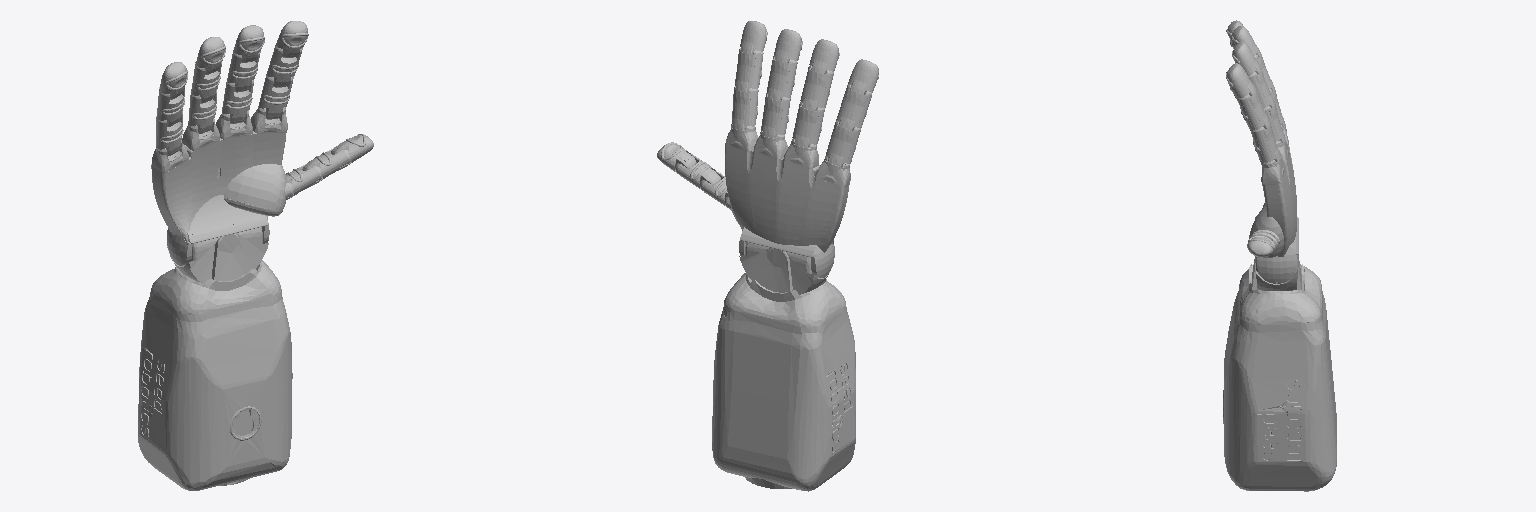
--- Facts derived from the render (not from the file) ---
3 views of the same robot in one strip: view 1: azimuth 30°, elevation 25°; view 2: azimuth 150°, elevation 25°; view 3: azimuth 270°, elevation 25° (orthographic).
Model RH8D with 21 links and 20 joints (19 revolute, 1 fixed), rooted at base_link, posed every joint at zero.
Links seen in each view (by area): view 1: forearm, palm, palm axis, Iproximal, Mproximal, Itip, Imiddle, Mtip, Rproximal, Mmiddle, Rtip, Pproximal (+6 smaller); view 2: forearm, palm, palm axis, Pmiddle, Rmiddle, Pproximal, Rproximal, Mmiddle, Mproximal, Imiddle, Iproximal, Ptip (+5 smaller); view 3: forearm, palm, Imiddle, Iproximal, Itip, Mtip.
Boxes of the visible links, x1,y1,x2,y2 form: forearm: [138, 233, 292, 490]; palm: [151, 106, 287, 265]; palm axis: [167, 227, 268, 283]; Iproximal: [259, 74, 293, 119]; Mproximal: [222, 80, 253, 123]; Itip: [276, 21, 308, 57]; Imiddle: [267, 45, 302, 87]; Mtip: [234, 25, 264, 62]; Rproximal: [188, 90, 216, 133]; Mmiddle: [227, 50, 260, 92]; Rtip: [196, 37, 225, 74]; Pproximal: [156, 111, 183, 155]; forearm: [712, 248, 855, 491]; palm: [725, 124, 850, 277]; palm axis: [739, 242, 833, 294]; Pmiddle: [836, 84, 871, 130]; Rmiddle: [800, 65, 833, 110]; Pproximal: [826, 120, 860, 166]; Rproximal: [792, 102, 824, 147]; Mmiddle: [767, 55, 797, 100]; Mproximal: [761, 93, 790, 137]; Imiddle: [735, 48, 763, 91]; Iproximal: [732, 85, 758, 129]; Ptip: [848, 59, 878, 94]; forearm: [1223, 255, 1336, 491]; palm: [1249, 125, 1298, 283]; Imiddle: [1237, 90, 1269, 129]; Iproximal: [1250, 123, 1280, 162]; Itip: [1226, 63, 1255, 98]; Mtip: [1232, 42, 1260, 75].
Bounding box of the posed robot: 0.1627 × 0.0757 × 0.3196 m (x, y, z).
20 mesh visuals loaded from 8 distinct referenced files (8 binary STL).

URDF robot description (RH8D):
<robot name="RH8D">
  <link name="base_link" />
  <link name="base">
    <inertial>
      <origin xyz="-2.32485e-05 5.52515e-05 0.00231761" rpy="0 0 0"/>
      <mass value="0.00544451"/>
      <inertia ixx="5.66637e-07" ixy="1.64003e-10" ixz="-2.30068e-10" iyy="5.71758e-07" iyz="5.4677e-10" izz="1.12068e-06"/>
    </inertial>
    <visual>
      <origin xyz="0 0 0" rpy="0 0 0"/>
      <geometry>
        <mesh filename="package://finger_description/meshes/base.stl" scale="0.001 0.001 0.001"/>
      </geometry>
      <material name="base_color">
        <color rgba="0.74902 0.74902 0.74902 1.0"/>
      </material>
    </visual>
    <collision>
      <origin xyz="0 0 0" rpy="0 0 0"/>
      <geometry>
        <mesh filename="package://finger_description/meshes/base.stl" scale="0.001 0.001 0.001"/>
      </geometry>
    </collision>
  </link>
  <link name="forearm">
    <inertial>
      <origin xyz="2.30433000001e-07 -0.0655374 -0.00282708" rpy="0 0 0"/>
      <mass value="0.737868"/>
      <inertia ixx="0.0013021" ixy="1.01472e-07" ixz="5.87405e-09" iyy="0.000679239" iyz="-1.22301e-05" izz="0.00145511"/>
    </inertial>
    <visual>
      <origin xyz="0.0241628 -0.122588 -0.0023045" rpy="0 0 0"/>
      <geometry>
        <mesh filename="package://finger_description/meshes/forearm.stl" scale="0.001 0.001 0.001"/>
      </geometry>
      <material name="forearm_color">
        <color rgba="0.74902 0.74902 0.74902 1.0"/>
      </material>
    </visual>
    <collision>
      <origin xyz="0.0241628 -0.122588 -0.0023045" rpy="0 0 0"/>
      <geometry>
        <mesh filename="package://finger_description/meshes/forearm.stl" scale="0.001 0.001 0.001"/>
      </geometry>
    </collision>
  </link>
  <joint name="forearm__base" type="revolute">
    <origin xyz="0 0 0.0005" rpy="-1.57079632679 0 0"/>
    <axis xyz="0.0 -1.0 2.22044604925e-16"/>
    <parent link="base"/>
    <child link="forearm"/>
    <limit effort="0.5" lower="-1.57079632679" upper="1.57079632679" velocity="1.0"/>
    <dynamics damping="0.1"/>
  </joint>
  <link name="palm axis">
    <inertial>
      <origin xyz="0 0.009025 -0.01025" rpy="0 0 0"/>
      <mass value="0.0484983"/>
      <inertia ixx="9.46434e-06" ixy="0.0" ixz="0.0" iyy="1.22209e-05" iyz="-2.49433e-17" izz="1.71183e-05"/>
    </inertial>
    <visual>
      <origin xyz="0 0 -0.01025" rpy="0 0 0"/>
      <geometry>
        <mesh filename="package://finger_description/meshes/palm axis.stl" scale="0.001 0.001 0.001"/>
      </geometry>
      <material name="palm axis_color">
        <color rgba="0.74902 0.74902 0.74902 1.0"/>
      </material>
    </visual>
    <collision>
      <origin xyz="0 0 -0.01025" rpy="0 0 0"/>
      <geometry>
        <mesh filename="package://finger_description/meshes/palm axis.stl" scale="0.001 0.001 0.001"/>
      </geometry>
    </collision>
  </link>
  <joint name="palm axis__forearm" type="revolute">
    <origin xyz="0 -0.165 -0.01525" rpy="-3.14159265359 0 -3.14159265359"/>
    <axis xyz="-2.22044604925e-16 0.0 -1.0"/>
    <parent link="forearm"/>
    <child link="palm axis"/>
    <limit effort="0.5" lower="-0.785398163397" upper="0.785398163397" velocity="1.0"/>
    <dynamics damping="0.1"/>
  </joint>
  <link name="palm">
    <inertial>
      <origin xyz="0.02226623 -0.04266 -0.00107953" rpy="0 0 0"/>
      <mass value="0.0886716"/>
      <inertia ixx="3.49499e-05" ixy="1.90978e-06" ixz="3.02331e-06" iyy="5.90827e-05" iyz="-2.26784e-07" izz="8.80157e-05"/>
    </inertial>
    <visual>
      <origin xyz="16.7603 17.427 0.713666" rpy="0 0 0"/>
      <geometry>
        <mesh filename="package://finger_description/meshes/palm.stl" scale="0.001 0.001 0.001"/>
      </geometry>
      <material name="palm_color">
        <color rgba="0.74902 0.74902 0.74902 1.0"/>
      </material>
    </visual>
    <collision>
      <origin xyz="16.7603 17.427 0.713666" rpy="0 0 0"/>
      <geometry>
        <mesh filename="package://finger_description/meshes/palm.stl" scale="0.001 0.001 0.001"/>
      </geometry>
    </collision>
  </link>
  <joint name="palm__palm axis" type="revolute">
    <origin xyz="-0.0265 0 -0.01025" rpy="0 0 0"/>
    <axis xyz="-1.0 2.22044604925e-16 0.0"/>
    <parent link="palm axis"/>
    <child link="palm"/>
    <limit effort="0.5" lower="-0.785398163397" upper="0.785398163397" velocity="1.0"/>
    <dynamics damping="0.1"/>
  </joint>
  <link name="Rproximal">
    <inertial>
      <origin xyz="-0.00506265498327 0.000178411167835 -0.0113952992502" rpy="0 0 0"/>
      <mass value="0.0046468"/>
      <inertia ixx="3.60659e-07" ixy="2.95375e-10" ixz="3.96643e-12" iyy="4.02251e-07" iyz="7.4602e-09" izz="1.59669e-07"/>
    </inertial>
    <visual>
      <origin xyz="0.00532660458173 -0.00134315858259 -0.0128298354943" rpy="0 0 0"/>
      <geometry>
        <mesh filename="package://finger_description/meshes/seg_L.stl" scale="0.001 0.001 0.001"/>
      </geometry>
      <material name="Rproximal_color">
        <color rgba="0.74902 0.74902 0.74902 1.0"/>
      </material>
    </visual>
    <collision>
      <origin xyz="0.00532660458173 -0.00134315858259 -0.0128298354943" rpy="0 0 0"/>
      <geometry>
        <mesh filename="package://finger_description/meshes/seg_L.stl" scale="0.001 0.001 0.001"/>
      </geometry>
    </collision>
  </link>
  <joint name="Rproximal__palm" type="revolute">
    <origin xyz="0.044463 -0.081365 0.00148931" rpy="-1.83998062112 -0.070428847363 0.101332262919"/>
    <axis xyz="-1.00000007251 -8.46220030541e-08 1.44225053858e-07"/>
    <parent link="palm"/>
    <child link="Rproximal"/>
    <limit effort="0.5" lower="0.0" upper="1.4835298642" velocity="1.0"/>
    <dynamics damping="0.1"/>
  </joint>
  <link name="Rmiddle">
    <inertial>
      <origin xyz="-0.0050627375168 0.000178703837342 -0.0113961050151" rpy="0 0 0"/>
      <mass value="0.0046468"/>
      <inertia ixx="3.60659e-07" ixy="2.95375e-10" ixz="3.96643e-12" iyy="4.02251e-07" iyz="7.4602e-09" izz="1.59669e-07"/>
    </inertial>
    <visual>
      <origin xyz="0.00532662722179 -0.00134303584663 -0.0128300831679" rpy="0 0 0"/>
      <geometry>
        <mesh filename="package://finger_description/meshes/seg_L.stl" scale="0.001 0.001 0.001"/>
      </geometry>
      <material name="Rmiddle_color">
        <color rgba="0.74902 0.74902 0.74902 1.0"/>
      </material>
    </visual>
    <collision>
      <origin xyz="0.00532662722179 -0.00134303584663 -0.0128300831679" rpy="0 0 0"/>
      <geometry>
        <mesh filename="package://finger_description/meshes/seg_L.stl" scale="0.001 0.001 0.001"/>
      </geometry>
    </collision>
  </link>
  <joint name="Rmiddle__Rproximal" type="revolute">
    <origin xyz="0 0 -0.0258747809103" rpy="-0.0872670609142 0 2.76912342671e-07"/>
    <axis xyz="-1.00000007251 1.72767385245e-07 2.31542720386e-07"/>
    <parent link="Rproximal"/>
    <child link="Rmiddle"/>
    <limit effort="0.5" lower="0.0" upper="1.4835298642" velocity="1.0"/>
    <dynamics damping="0.1"/>
  </joint>
  <link name="Rtip">
    <inertial>
      <origin xyz="-0.00506262889447 0.000158864121429 -0.00949029810479" rpy="0 0 0"/>
      <mass value="0.00398141"/>
      <inertia ixx="2.27393e-07" ixy="-4.487e-12" ixz="-6.19169e-12" iyy="2.50732e-07" iyz="3.7689e-09" izz="1.09262e-07"/>
    </inertial>
    <visual>
      <origin xyz="-0.00506246565687 -4.09118144695e-07 7.45384128198e-07" rpy="0 0 0"/>
      <geometry>
        <mesh filename="package://finger_description/meshes/tip.stl" scale="0.001 0.001 0.001"/>
      </geometry>
      <material name="Rtip_color">
        <color rgba="0.74902 0.74902 0.74902 1.0"/>
      </material>
    </visual>
    <collision>
      <origin xyz="-0.00506246565687 -4.09118144695e-07 7.45384128198e-07" rpy="0 0 0"/>
      <geometry>
        <mesh filename="package://finger_description/meshes/tip.stl" scale="0.001 0.001 0.001"/>
      </geometry>
    </collision>
  </link>
  <joint name="Rtip__Rmiddle" type="revolute">
    <origin xyz="0 2.25940697457e-07 -0.0258755491275" rpy="-0.0872662816218 1.12264697248e-07 -3.5745305372e-07"/>
    <axis xyz="-1.00000007251 -1.94378654964e-07 1.02727742424e-07"/>
    <parent link="Rmiddle"/>
    <child link="Rtip"/>
    <limit effort="0.5" lower="0.0" upper="1.4835298642" velocity="1.0"/>
    <dynamics damping="0.1"/>
  </joint>
  <link name="Mproximal">
    <inertial>
      <origin xyz="-0.00506268032219 0.000178369758776 -0.0113951959251" rpy="0 0 0"/>
      <mass value="0.0046468"/>
      <inertia ixx="3.60659e-07" ixy="2.95375e-10" ixz="3.96643e-12" iyy="4.02251e-07" iyz="7.4602e-09" izz="1.59669e-07"/>
    </inertial>
    <visual>
      <origin xyz="0.00532660055243 -0.00134318776557 -0.0128295627043" rpy="0 0 0"/>
      <geometry>
        <mesh filename="package://finger_description/meshes/seg_L.stl" scale="0.001 0.001 0.001"/>
      </geometry>
      <material name="Mproximal_color">
        <color rgba="0.74902 0.74902 0.74902 1.0"/>
      </material>
    </visual>
    <collision>
      <origin xyz="0.00532660055243 -0.00134318776557 -0.0128295627043" rpy="0 0 0"/>
      <geometry>
        <mesh filename="package://finger_description/meshes/seg_L.stl" scale="0.001 0.001 0.001"/>
      </geometry>
    </collision>
  </link>
  <joint name="Mproximal__palm" type="revolute">
    <origin xyz="0.01971414 -0.082973 0.00076618" rpy="-1.83324870939 0.0859369188285 -0.0151906736407"/>
    <axis xyz="-1.00000030441 -5.71235363176e-07 2.22119205119e-07"/>
    <parent link="palm"/>
    <child link="Mproximal"/>
    <limit effort="0.5" lower="0.0" upper="1.4835298642" velocity="1.0"/>
    <dynamics damping="0.1"/>
  </joint>
  <link name="Mmiddle">
    <inertial>
      <origin xyz="-0.00506269201108 0.000178473714736 -0.0113956264739" rpy="0 0 0"/>
      <mass value="0.0046468"/>
      <inertia ixx="3.60659e-07" ixy="2.95375e-10" ixz="3.96643e-12" iyy="4.02251e-07" iyz="7.4602e-09" izz="1.59669e-07"/>
    </inertial>
    <visual>
      <origin xyz="0.00532662940519 -0.001342939287 -0.012830098266" rpy="0 0 0"/>
      <geometry>
        <mesh filename="package://finger_description/meshes/seg_L.stl" scale="0.001 0.001 0.001"/>
      </geometry>
      <material name="Mmiddle_color">
        <color rgba="0.74902 0.74902 0.74902 1.0"/>
      </material>
    </visual>
    <collision>
      <origin xyz="0.00532662940519 -0.001342939287 -0.012830098266" rpy="0 0 0"/>
      <geometry>
        <mesh filename="package://finger_description/meshes/seg_L.stl" scale="0.001 0.001 0.001"/>
      </geometry>
    </collision>
  </link>
  <joint name="Mmiddle__Mproximal" type="revolute">
    <origin xyz="0 -2.41651877793e-07 -0.0258742142625" rpy="-0.0872661749543 2.70259221066e-07 3.1679265362e-07"/>
    <axis xyz="-1.00000030441 -2.49278715942e-07 -7.0132973715e-08"/>
    <parent link="Mproximal"/>
    <child link="Mmiddle"/>
    <limit effort="0.5" lower="0.0" upper="1.4835298642" velocity="1.0"/>
    <dynamics damping="0.1"/>
  </joint>
  <link name="Mtip">
    <inertial>
      <origin xyz="-0.0050627478165 0.00015921993426 -0.00949104619276" rpy="0 0 0"/>
      <mass value="0.00398141"/>
      <inertia ixx="2.27393e-07" ixy="-4.487e-12" ixz="-6.19169e-12" iyy="2.50732e-07" iyz="3.7689e-09" izz="1.09262e-07"/>
    </inertial>
    <visual>
      <origin xyz="-0.00506245834339 -1.4490970493e-07 3.55767050764e-07" rpy="0 0 0"/>
      <geometry>
        <mesh filename="package://finger_description/meshes/tip.stl" scale="0.001 0.001 0.001"/>
      </geometry>
      <material name="Mtip_color">
        <color rgba="0.74902 0.74902 0.74902 1.0"/>
      </material>
    </visual>
    <collision>
      <origin xyz="-0.00506245834339 -1.4490970493e-07 3.55767050764e-07" rpy="0 0 0"/>
      <geometry>
        <mesh filename="package://finger_description/meshes/tip.stl" scale="0.001 0.001 0.001"/>
      </geometry>
    </collision>
  </link>
  <joint name="Mtip__Mmiddle" type="revolute">
    <origin xyz="0 1.85177410031e-07 -0.0258754440497" rpy="-0.0872666641639 -2.30451794024e-07 1.75345278157e-07"/>
    <axis xyz="-1.00000030441 -8.76247884616e-08 1.53265091958e-07"/>
    <parent link="Mmiddle"/>
    <child link="Mtip"/>
    <limit effort="0.5" lower="0.0" upper="1.4835298642" velocity="1.0"/>
    <dynamics damping="0.1"/>
  </joint>
  <link name="Pproximal">
    <inertial>
      <origin xyz="-0.00506265004772 0.000178471691603 -0.0113954440839" rpy="0 0 0"/>
      <mass value="0.0046468"/>
      <inertia ixx="3.60659e-07" ixy="2.95375e-10" ixz="3.96643e-12" iyy="4.02251e-07" iyz="7.4602e-09" izz="1.59669e-07"/>
    </inertial>
    <visual>
      <origin xyz="0.00532669695333 -0.00134327559708 -0.0128292006118" rpy="0 0 0"/>
      <geometry>
        <mesh filename="package://finger_description/meshes/seg_L.stl" scale="0.001 0.001 0.001"/>
      </geometry>
      <material name="Pproximal_color">
        <color rgba="0.74902 0.74902 0.74902 1.0"/>
      </material>
    </visual>
    <collision>
      <origin xyz="0.00532669695333 -0.00134327559708 -0.0128292006118" rpy="0 0 0"/>
      <geometry>
        <mesh filename="package://finger_description/meshes/seg_L.stl" scale="0.001 0.001 0.001"/>
      </geometry>
    </collision>
  </link>
  <joint name="Pproximal__palm" type="revolute">
    <origin xyz="0.0691264 -0.072128 0.0038631" rpy="-1.86212856709 -0.138702648968 0.204065548896"/>
    <axis xyz="-0.999999718358 -2.63813422101e-07 -1.77932631934e-07"/>
    <parent link="palm"/>
    <child link="Pproximal"/>
    <limit effort="0.5" lower="0.0" upper="1.4835298642" velocity="1.0"/>
    <dynamics damping="0.1"/>
  </joint>
  <link name="Pmiddle">
    <inertial>
      <origin xyz="-0.00506271792241 0.000178454269957 -0.0113956275282" rpy="0 0 0"/>
      <mass value="0.0046468"/>
      <inertia ixx="3.60659e-07" ixy="2.95375e-10" ixz="3.96643e-12" iyy="4.02251e-07" iyz="7.4602e-09" izz="1.59669e-07"/>
    </inertial>
    <visual>
      <origin xyz="0.00532646642137 -0.00134299429342 -0.0128302748856" rpy="0 0 0"/>
      <geometry>
        <mesh filename="package://finger_description/meshes/seg_L.stl" scale="0.001 0.001 0.001"/>
      </geometry>
      <material name="Pmiddle_color">
        <color rgba="0.74902 0.74902 0.74902 1.0"/>
      </material>
    </visual>
    <collision>
      <origin xyz="0.00532646642137 -0.00134299429342 -0.0128302748856" rpy="0 0 0"/>
      <geometry>
        <mesh filename="package://finger_description/meshes/seg_L.stl" scale="0.001 0.001 0.001"/>
      </geometry>
    </collision>
  </link>
  <joint name="Pmiddle__Pproximal" type="revolute">
    <origin xyz="1.71429768873e-07 0 -0.0258743732015" rpy="-0.0872666026479 1.06320174575e-07 0"/>
    <axis xyz="-0.999999718358 -2.69819360882e-07 -3.08944752836e-07"/>
    <parent link="Pproximal"/>
    <child link="Pmiddle"/>
    <limit effort="0.5" lower="0.0" upper="1.4835298642" velocity="1.0"/>
    <dynamics damping="0.1"/>
  </joint>
  <link name="Ptip">
    <inertial>
      <origin xyz="-0.00506265913629 0.000159136938405 -0.00949076905022" rpy="0 0 0"/>
      <mass value="0.00398141"/>
      <inertia ixx="2.27393e-07" ixy="-4.487e-12" ixz="-6.19169e-12" iyy="2.50732e-07" iyz="3.7689e-09" izz="1.09262e-07"/>
    </inertial>
    <visual>
      <origin xyz="-0.00506254619728 0 1.00217221743e-07" rpy="0 0 0"/>
      <geometry>
        <mesh filename="package://finger_description/meshes/tip.stl" scale="0.001 0.001 0.001"/>
      </geometry>
      <material name="Ptip_color">
        <color rgba="0.74902 0.74902 0.74902 1.0"/>
      </material>
    </visual>
    <collision>
      <origin xyz="-0.00506254619728 0 1.00217221743e-07" rpy="0 0 0"/>
      <geometry>
        <mesh filename="package://finger_description/meshes/tip.stl" scale="0.001 0.001 0.001"/>
      </geometry>
    </collision>
  </link>
  <joint name="Ptip__Pmiddle" type="revolute">
    <origin xyz="0 0 -0.0258752741659" rpy="-0.0872659042327 2.27460324884e-07 1.07985789158e-07"/>
    <axis xyz="-0.999999718358 -1.14467305121e-07 -5.48468494399e-07"/>
    <parent link="Pmiddle"/>
    <child link="Ptip"/>
    <limit effort="0.5" lower="0.0" upper="1.4835298642" velocity="1.0"/>
    <dynamics damping="0.1"/>
  </joint>
  <link name="thumb base">
    <inertial>
      <origin xyz="5.41241550495e-07 0.0139591752938 0.00025370998152" rpy="0 0 0"/>
      <mass value="0.00705621"/>
      <inertia ixx="5.42596e-07" ixy="4.46196e-11" ixz="-1.43331e-11" iyy="3.55499e-07" iyz="4.00664e-08" izz="5.38335e-07"/>
    </inertial>
    <visual>
      <origin xyz="0 0.0145002326896 2.12529551097e-07" rpy="0 0 0"/>
      <geometry>
        <mesh filename="package://finger_description/meshes/thumb.stl" scale="0.001 0.001 0.001"/>
      </geometry>
      <material name="thumb base_color">
        <color rgba="0.74902 0.74902 0.74902 1.0"/>
      </material>
    </visual>
    <collision>
      <origin xyz="0 0.0145002326896 2.12529551097e-07" rpy="0 0 0"/>
      <geometry>
        <mesh filename="package://finger_description/meshes/thumb.stl" scale="0.001 0.001 0.001"/>
      </geometry>
    </collision>
  </link>
  <joint name="palm__thumb base" type="revolute">
    <origin xyz="-0.0132983 -0.013942 0.0090401" rpy="-1.75712148701 1.30427457179 2.16321531663"/>
    <axis xyz="7.47739294649e-08 -1.00000039555 -1.69572095365e-07"/>
    <parent link="palm"/>
    <child link="thumb base"/>
    <limit effort="0.5" lower="0.0" upper="1.57079632679" velocity="1.0"/>
    <dynamics damping="0.1"/>
  </joint>
  <link name="Tproximal">
    <inertial>
      <origin xyz="-0.00509118037371 -0.000108367330619 -0.00917567646424" rpy="0 0 0"/>
      <mass value="0.00379261"/>
      <inertia ixx="3.44891e-07" ixy="-5.85841e-09" ixz="-1.40349e-09" iyy="2.90581e-07" iyz="-9.57879e-09" izz="2.1814e-07"/>
    </inertial>
    <visual>
      <origin xyz="-0.00506247937312 1.51098425411e-07 -0.00864845498031" rpy="0 0 0"/>
      <geometry>
        <mesh filename="package://finger_description/meshes/seg_M.stl" scale="0.001 0.001 0.001"/>
      </geometry>
      <material name="Tproximal_color">
        <color rgba="0.74902 0.74902 0.74902 1.0"/>
      </material>
    </visual>
    <collision>
      <origin xyz="-0.00506247937312 1.51098425411e-07 -0.00864845498031" rpy="0 0 0"/>
      <geometry>
        <mesh filename="package://finger_description/meshes/seg_M.stl" scale="0.001 0.001 0.001"/>
      </geometry>
    </collision>
  </link>
  <joint name="Tproximal__thumb base" type="revolute">
    <origin xyz="0.00506271141921 0.00574726795841 0.0111638055054" rpy="-2.69572490984 0 -3.23524184915e-07"/>
    <axis xyz="-1.00000015905 4.04301755325e-07 -1.03967894405e-07"/>
    <parent link="thumb base"/>
    <child link="Tproximal"/>
    <limit effort="0.5" lower="0.0" upper="1.57079632679" velocity="1.0"/>
    <dynamics damping="0.1"/>
  </joint>
  <link name="Tmiddle">
    <inertial>
      <origin xyz="-0.00509145714593 -0.000109508075581 -0.00917619264503" rpy="0 0 0"/>
      <mass value="0.00379261"/>
      <inertia ixx="3.44891e-07" ixy="-5.85841e-09" ixz="-1.40349e-09" iyy="2.90581e-07" iyz="-9.57879e-09" izz="2.1814e-07"/>
    </inertial>
    <visual>
      <origin xyz="-0.00506255005155 -3.30490933204e-07 -0.00864867274502" rpy="0 0 0"/>
      <geometry>
        <mesh filename="package://finger_description/meshes/seg_M.stl" scale="0.001 0.001 0.001"/>
      </geometry>
      <material name="Tmiddle_color">
        <color rgba="0.74902 0.74902 0.74902 1.0"/>
      </material>
    </visual>
    <collision>
      <origin xyz="-0.00506255005155 -3.30490933204e-07 -0.00864867274502" rpy="0 0 0"/>
      <geometry>
        <mesh filename="package://finger_description/meshes/seg_M.stl" scale="0.001 0.001 0.001"/>
      </geometry>
    </collision>
  </link>
  <joint name="Tmiddle__Tproximal" type="revolute">
    <origin xyz="1.61327491782e-07 6.88063125837e-07 -0.0215856949813" rpy="-0.00953533375442 -2.2361018211e-07 -5.28725690007e-07"/>
    <axis xyz="-1.00000015905 -1.25559174474e-07 1.18450477621e-07"/>
    <parent link="Tproximal"/>
    <child link="Tmiddle"/>
    <limit effort="0.5" lower="0.0" upper="1.57079632679" velocity="1.0"/>
    <dynamics damping="0.1"/>
  </joint>
  <link name="Ttip">
    <inertial>
      <origin xyz="-0.00506285640086 0.000158437874597 -0.00949116013742" rpy="0 0 0"/>
      <mass value="0.00398141"/>
      <inertia ixx="2.27393e-07" ixy="-4.487e-12" ixz="-6.19169e-12" iyy="2.50732e-07" iyz="3.7689e-09" izz="1.09262e-07"/>
    </inertial>
    <visual>
      <origin xyz="-0.00506272959909 -7.78884574837e-07 -2.9976296162e-07" rpy="0 0 0"/>
      <geometry>
        <mesh filename="package://finger_description/meshes/tip.stl" scale="0.001 0.001 0.001"/>
      </geometry>
      <material name="Ttip_color">
        <color rgba="0.74902 0.74902 0.74902 1.0"/>
      </material>
    </visual>
    <collision>
      <origin xyz="-0.00506272959909 -7.78884574837e-07 -2.9976296162e-07" rpy="0 0 0"/>
      <geometry>
        <mesh filename="package://finger_description/meshes/tip.stl" scale="0.001 0.001 0.001"/>
      </geometry>
    </collision>
  </link>
  <joint name="Ttip__Tmiddle" type="revolute">
    <origin xyz="0 1.28178098219e-07 -0.0215859563877" rpy="0 0 0"/>
    <axis xyz="-1.00000015905 -1.25559174474e-07 1.18450477621e-07"/>
    <parent link="Tmiddle"/>
    <child link="Ttip"/>
    <limit effort="0.5" lower="0.0" upper="1.57079632679" velocity="1.0"/>
    <dynamics damping="0.1"/>
  </joint>
  <link name="Iproximal">
    <inertial>
      <origin xyz="-0.00506269303095 0.000178661194879 -0.0113960183486" rpy="0 0 0"/>
      <mass value="0.0046468"/>
      <inertia ixx="3.60659e-07" ixy="2.95375e-10" ixz="3.96643e-12" iyy="4.02251e-07" iyz="7.4602e-09" izz="1.59669e-07"/>
    </inertial>
    <visual>
      <origin xyz="0.00532665437356 -0.00134306865084 -0.0128298343462" rpy="0 0 0"/>
      <geometry>
        <mesh filename="package://finger_description/meshes/seg_L.stl" scale="0.001 0.001 0.001"/>
      </geometry>
      <material name="Iproximal_color">
        <color rgba="0.74902 0.74902 0.74902 1.0"/>
      </material>
    </visual>
    <collision>
      <origin xyz="0.00532665437356 -0.00134306865084 -0.0128298343462" rpy="0 0 0"/>
      <geometry>
        <mesh filename="package://finger_description/meshes/seg_L.stl" scale="0.001 0.001 0.001"/>
      </geometry>
    </collision>
  </link>
  <joint name="Iproximal__palm" type="revolute">
    <origin xyz="-0.0053425 -0.081883 0.00351788" rpy="-1.84942615384 0.155854888307 -0.117563434836"/>
    <axis xyz="-0.999999806433 -3.11064646163e-07 -1.92575397934e-07"/>
    <parent link="palm"/>
    <child link="Iproximal"/>
    <limit effort="0.5" lower="0.0" upper="1.4835298642" velocity="1.0"/>
    <dynamics damping="0.1"/>
  </joint>
  <link name="Imiddle">
    <inertial>
      <origin xyz="-0.00506266070615 0.000178528721729 -0.0113957955067" rpy="0 0 0"/>
      <mass value="0.0046468"/>
      <inertia ixx="3.60659e-07" ixy="2.95375e-10" ixz="3.96643e-12" iyy="4.02251e-07" iyz="7.4602e-09" izz="1.59669e-07"/>
    </inertial>
    <visual>
      <origin xyz="0.00532665674393 -0.00134322760034 -0.012829627881" rpy="0 0 0"/>
      <geometry>
        <mesh filename="package://finger_description/meshes/seg_L.stl" scale="0.001 0.001 0.001"/>
      </geometry>
      <material name="Imiddle_color">
        <color rgba="0.74902 0.74902 0.74902 1.0"/>
      </material>
    </visual>
    <collision>
      <origin xyz="0.00532665674393 -0.00134322760034 -0.012829627881" rpy="0 0 0"/>
      <geometry>
        <mesh filename="package://finger_description/meshes/seg_L.stl" scale="0.001 0.001 0.001"/>
      </geometry>
    </collision>
  </link>
  <joint name="Imiddle__Iproximal" type="revolute">
    <origin xyz="0 0 -0.0258750517122" rpy="-0.0872662181335 -6.1944905734e-07 4.44119679405e-07"/>
    <axis xyz="-0.999999806433 9.5344259203e-08 4.3684563622e-07"/>
    <parent link="Iproximal"/>
    <child link="Imiddle"/>
    <limit effort="0.5" lower="0.0" upper="1.4835298642" velocity="1.0"/>
    <dynamics damping="0.1"/>
  </joint>
  <link name="Itip">
    <inertial>
      <origin xyz="-0.00506271582253 0.000159256228073 -0.00949120545948" rpy="0 0 0"/>
      <mass value="0.00398141"/>
      <inertia ixx="2.27393e-07" ixy="-4.487e-12" ixz="-6.19169e-12" iyy="2.50732e-07" iyz="3.7689e-09" izz="1.09262e-07"/>
    </inertial>
    <visual>
      <origin xyz="-0.00506242530965 1.78928126315e-07 -5.67587439049e-07" rpy="0 0 0"/>
      <geometry>
        <mesh filename="package://finger_description/meshes/tip.stl" scale="0.001 0.001 0.001"/>
      </geometry>
      <material name="Itip_color">
        <color rgba="0.74902 0.74902 0.74902 1.0"/>
      </material>
    </visual>
    <collision>
      <origin xyz="-0.00506242530965 1.78928126315e-07 -5.67587439049e-07" rpy="0 0 0"/>
      <geometry>
        <mesh filename="package://finger_description/meshes/tip.stl" scale="0.001 0.001 0.001"/>
      </geometry>
    </collision>
  </link>
  <joint name="Itip__Imiddle" type="revolute">
    <origin xyz="0 0 -0.0258750542774" rpy="-0.0872665348444 1.37808199802e-07 -5.71018688354e-07"/>
    <axis xyz="-0.999999806433 -4.99927084681e-07 2.56441750668e-07"/>
    <parent link="Imiddle"/>
    <child link="Itip"/>
    <limit effort="0.5" lower="0.0" upper="1.4835298642" velocity="1.0"/>
    <dynamics damping="0.1"/>
  </joint>
  <gazebo reference="base">
    <visual>
      <material>
        <ambient>0.74902 0.74902 0.74902 1.0</ambient>
        <diffuse>0.74902 0.74902 0.74902 1.0</diffuse>
        <specular>0.74902 0.74902 0.74902 1.0</specular>
      </material>
    </visual>
  </gazebo>
  <gazebo reference="forearm">
    <visual>
      <material>
        <ambient>0.74902 0.74902 0.74902 1.0</ambient>
        <diffuse>0.74902 0.74902 0.74902 1.0</diffuse>
        <specular>0.74902 0.74902 0.74902 1.0</specular>
      </material>
    </visual>
  </gazebo>
  <gazebo reference="palm axis">
    <visual>
      <material>
        <ambient>0.74902 0.74902 0.74902 1.0</ambient>
        <diffuse>0.74902 0.74902 0.74902 1.0</diffuse>
        <specular>0.74902 0.74902 0.74902 1.0</specular>
      </material>
    </visual>
  </gazebo>
  <gazebo reference="palm">
    <visual>
      <material>
        <ambient>0.74902 0.74902 0.74902 1.0</ambient>
        <diffuse>0.74902 0.74902 0.74902 1.0</diffuse>
        <specular>0.74902 0.74902 0.74902 1.0</specular>
      </material>
    </visual>
  </gazebo>
  <gazebo reference="Rproximal">
    <visual>
      <material>
        <ambient>0.74902 0.74902 0.74902 1.0</ambient>
        <diffuse>0.74902 0.74902 0.74902 1.0</diffuse>
        <specular>0.74902 0.74902 0.74902 1.0</specular>
      </material>
    </visual>
  </gazebo>
  <gazebo reference="Rmiddle">
    <visual>
      <material>
        <ambient>0.74902 0.74902 0.74902 1.0</ambient>
        <diffuse>0.74902 0.74902 0.74902 1.0</diffuse>
        <specular>0.74902 0.74902 0.74902 1.0</specular>
      </material>
    </visual>
  </gazebo>
  <gazebo reference="Rtip">
    <visual>
      <material>
        <ambient>0.74902 0.74902 0.74902 1.0</ambient>
        <diffuse>0.74902 0.74902 0.74902 1.0</diffuse>
        <specular>0.74902 0.74902 0.74902 1.0</specular>
      </material>
    </visual>
  </gazebo>
  <gazebo reference="Mproximal">
    <visual>
      <material>
        <ambient>0.74902 0.74902 0.74902 1.0</ambient>
        <diffuse>0.74902 0.74902 0.74902 1.0</diffuse>
        <specular>0.74902 0.74902 0.74902 1.0</specular>
      </material>
    </visual>
  </gazebo>
  <gazebo reference="Mmiddle">
    <visual>
      <material>
        <ambient>0.74902 0.74902 0.74902 1.0</ambient>
        <diffuse>0.74902 0.74902 0.74902 1.0</diffuse>
        <specular>0.74902 0.74902 0.74902 1.0</specular>
      </material>
    </visual>
  </gazebo>
  <gazebo reference="Mtip">
    <visual>
      <material>
        <ambient>0.74902 0.74902 0.74902 1.0</ambient>
        <diffuse>0.74902 0.74902 0.74902 1.0</diffuse>
        <specular>0.74902 0.74902 0.74902 1.0</specular>
      </material>
    </visual>
  </gazebo>
  <gazebo reference="Pproximal">
    <visual>
      <material>
        <ambient>0.74902 0.74902 0.74902 1.0</ambient>
        <diffuse>0.74902 0.74902 0.74902 1.0</diffuse>
        <specular>0.74902 0.74902 0.74902 1.0</specular>
      </material>
    </visual>
  </gazebo>
  <gazebo reference="Pmiddle">
    <visual>
      <material>
        <ambient>0.74902 0.74902 0.74902 1.0</ambient>
        <diffuse>0.74902 0.74902 0.74902 1.0</diffuse>
        <specular>0.74902 0.74902 0.74902 1.0</specular>
      </material>
    </visual>
  </gazebo>
  <gazebo reference="Ptip">
    <visual>
      <material>
        <ambient>0.74902 0.74902 0.74902 1.0</ambient>
        <diffuse>0.74902 0.74902 0.74902 1.0</diffuse>
        <specular>0.74902 0.74902 0.74902 1.0</specular>
      </material>
    </visual>
  </gazebo>
  <gazebo reference="thumb base">
    <visual>
      <material>
        <ambient>0.74902 0.74902 0.74902 1.0</ambient>
        <diffuse>0.74902 0.74902 0.74902 1.0</diffuse>
        <specular>0.74902 0.74902 0.74902 1.0</specular>
      </material>
    </visual>
  </gazebo>
  <gazebo reference="Tproximal">
    <visual>
      <material>
        <ambient>0.74902 0.74902 0.74902 1.0</ambient>
        <diffuse>0.74902 0.74902 0.74902 1.0</diffuse>
        <specular>0.74902 0.74902 0.74902 1.0</specular>
      </material>
    </visual>
  </gazebo>
  <gazebo reference="Tmiddle">
    <visual>
      <material>
        <ambient>0.74902 0.74902 0.74902 1.0</ambient>
        <diffuse>0.74902 0.74902 0.74902 1.0</diffuse>
        <specular>0.74902 0.74902 0.74902 1.0</specular>
      </material>
    </visual>
  </gazebo>
  <gazebo reference="Ttip">
    <visual>
      <material>
        <ambient>0.74902 0.74902 0.74902 1.0</ambient>
        <diffuse>0.74902 0.74902 0.74902 1.0</diffuse>
        <specular>0.74902 0.74902 0.74902 1.0</specular>
      </material>
    </visual>
  </gazebo>
  <gazebo reference="Iproximal">
    <visual>
      <material>
        <ambient>0.74902 0.74902 0.74902 1.0</ambient>
        <diffuse>0.74902 0.74902 0.74902 1.0</diffuse>
        <specular>0.74902 0.74902 0.74902 1.0</specular>
      </material>
    </visual>
  </gazebo>
  <gazebo reference="Imiddle">
    <visual>
      <material>
        <ambient>0.74902 0.74902 0.74902 1.0</ambient>
        <diffuse>0.74902 0.74902 0.74902 1.0</diffuse>
        <specular>0.74902 0.74902 0.74902 1.0</specular>
      </material>
    </visual>
  </gazebo>
  <gazebo reference="Itip">
    <visual>
      <material>
        <ambient>0.74902 0.74902 0.74902 1.0</ambient>
        <diffuse>0.74902 0.74902 0.74902 1.0</diffuse>
        <specular>0.74902 0.74902 0.74902 1.0</specular>
      </material>
    </visual>
  </gazebo>
  <gazebo>
    <pose>0.0 0.0 0.0 0.0 0.0 0.0</pose>
  </gazebo>
  <joint name="base_joint" type="fixed" >
    <parent link="base_link" />
    <child link="base" />
    <origin xyz="0 0 0" rpy="0 0 0" />
  </joint>
</robot>
